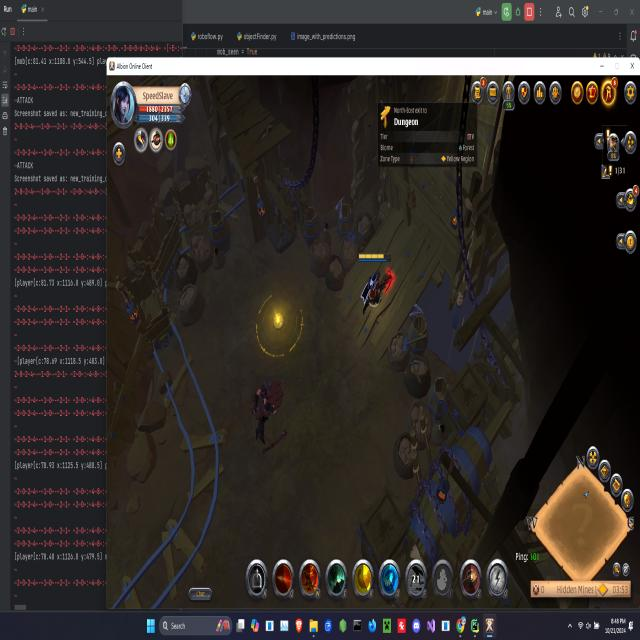red: (352, 244, 401, 328)
